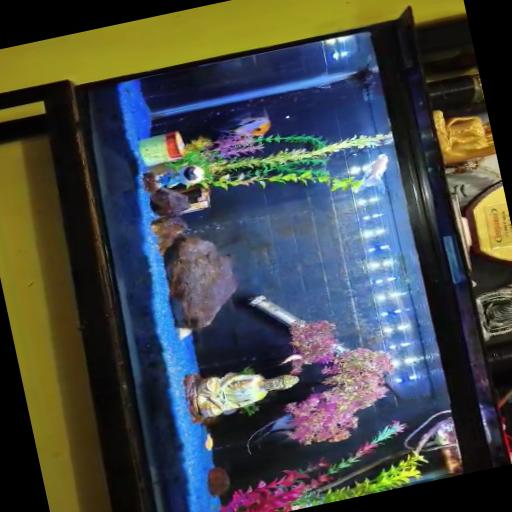Fish: (245, 414, 294, 453), (223, 109, 270, 136), (355, 154, 387, 192), (278, 354, 301, 365), (203, 434, 212, 450)
